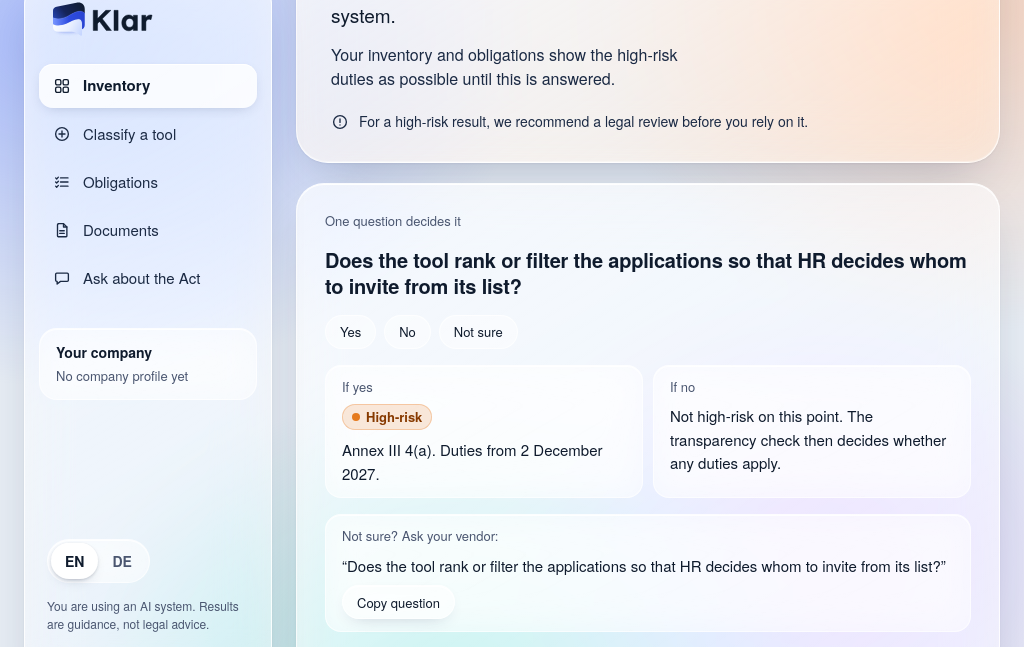
Answering the question that decides a result › re-runs with the answer next to the description and shows the re-run result
(page scrolled)
Click the button "No".
click(408, 332)  # box [384,315,431,349]
(page scrolled)
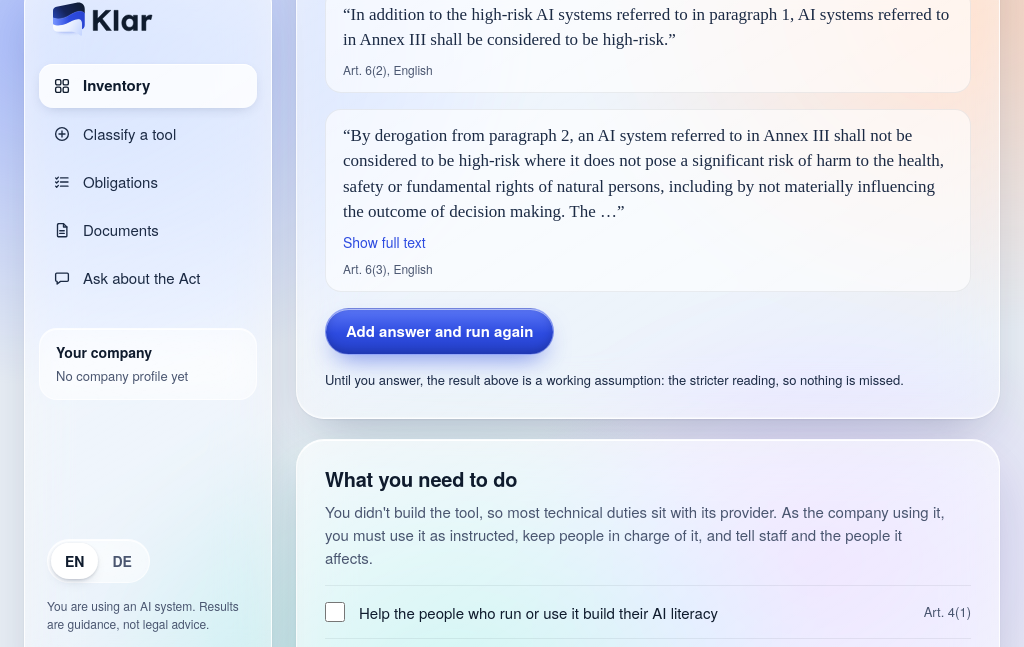
Click the button "Add answer and run again".
click(440, 331)  # box [325,308,554,355]
(page scrolled)
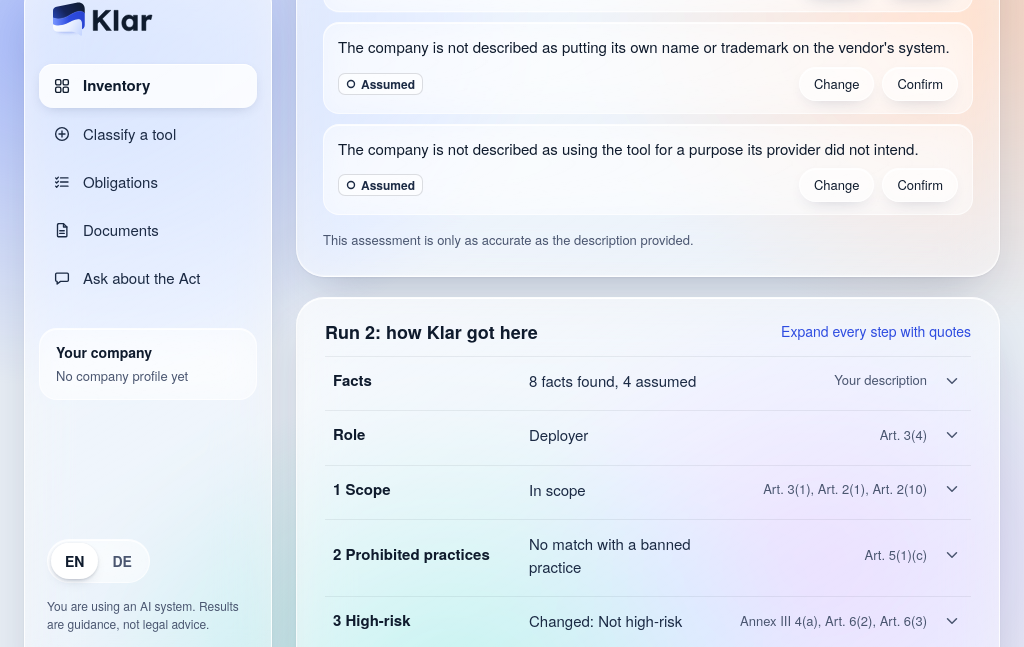
Check: the button "1 Scope In scope Art. 3(1), Art. 2(1), Art. 2(10)" does not show "Changed", box [325,466,971,513]
Check: the button "3 High-risk" shows "Changed: Not high-risk", box [325,597,971,645]
Check: the heading "Run 2: how Klar got here" is shown, box [325,320,538,344]
